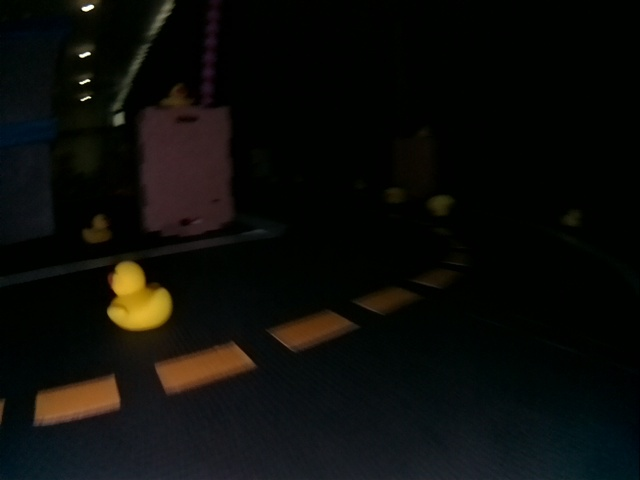Duckie: (107, 262, 170, 329), (82, 216, 110, 242), (432, 195, 453, 215), (387, 187, 404, 204)
